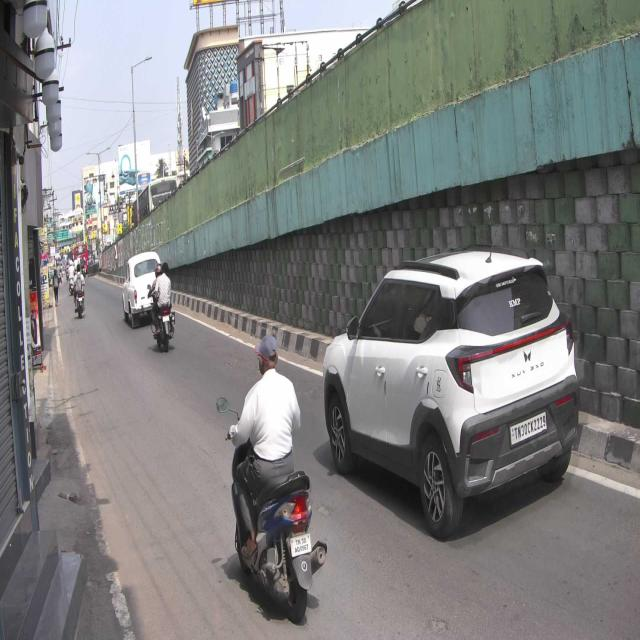single_rider: (222, 334, 327, 626)
